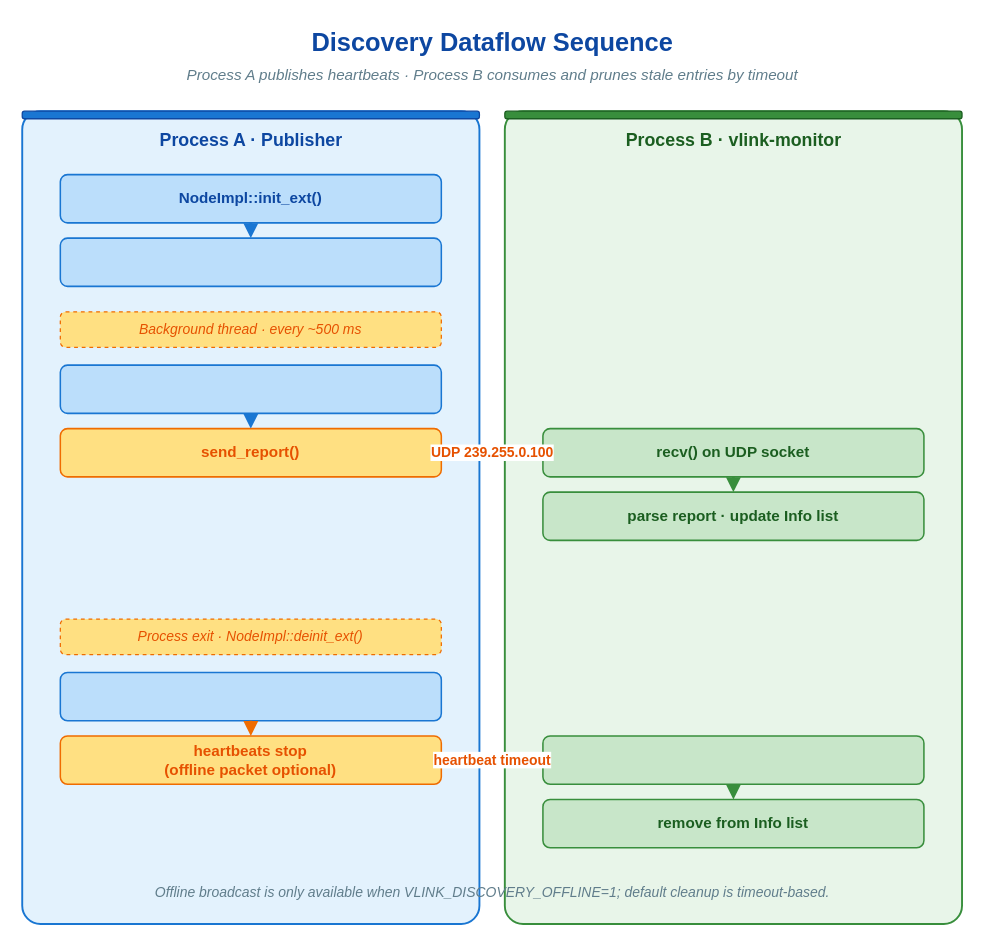
Image size: 986x946. Some labels were removed from this diagram. The box of each missing label's shape, as (x1, y1, x2, y2) in pixels:
DiscoveryReporter::add(): (59, 237, 441, 287)
DiscoveryReporter::remove(): (59, 671, 441, 721)
process_timeout(): (542, 735, 924, 784)
rebuild_message(): (59, 364, 441, 414)
